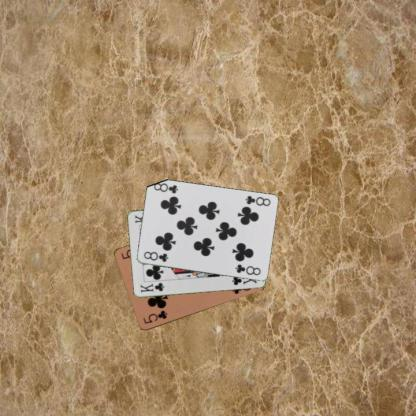5c: (140, 308, 169, 325)
8c: (242, 193, 272, 207), (141, 249, 169, 263)
Kc: (138, 280, 165, 294)
